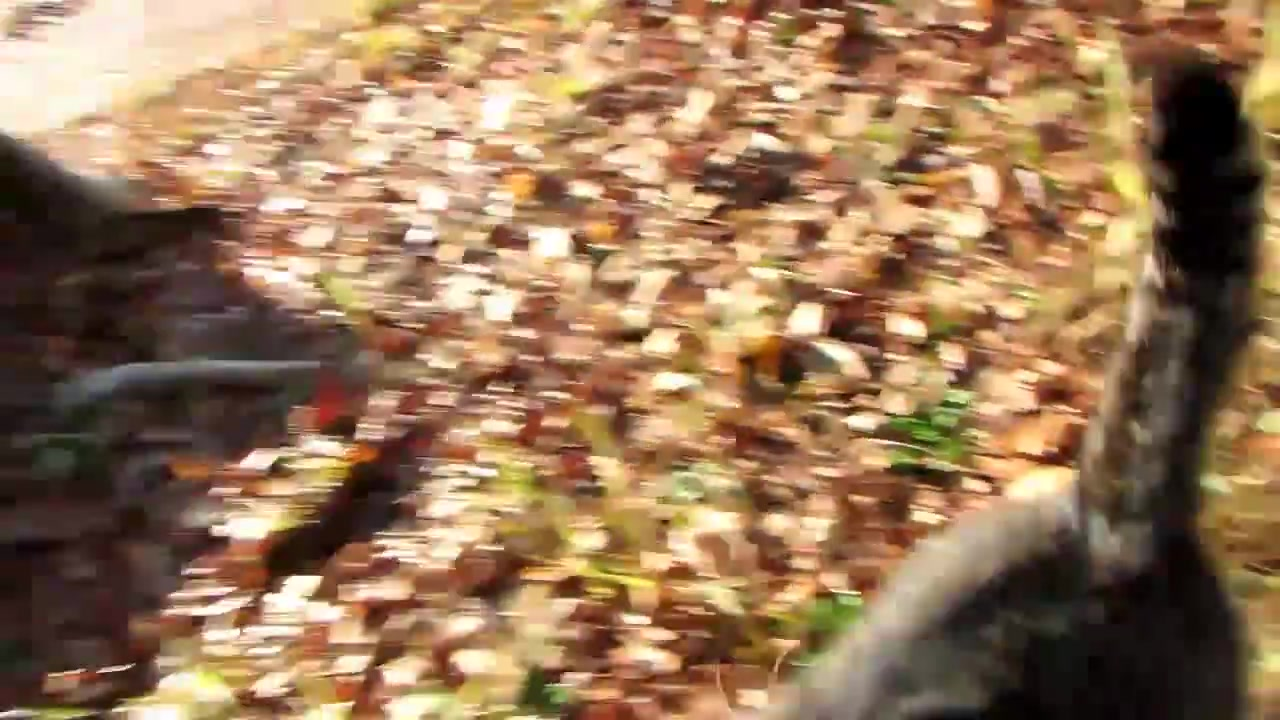cat: (768, 59, 1280, 720)
